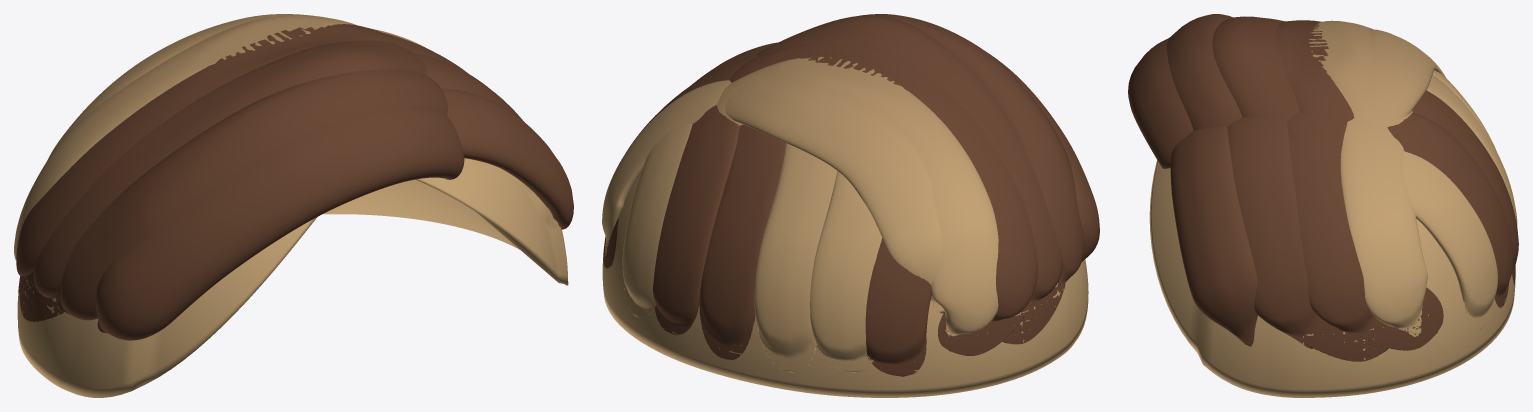
File: Highlights-988428c4273d251-hair.glb
The picture shows the model from 3 angles, left to right: view 1: azimuth 30°, elevation 25°; view 2: azimuth 150°, elevation 25°; view 3: azimuth 270°, elevation 25°; orthographic projection. The views are drawn at different scales.
Parts seen in each view (by area): view 1: 226 hair / Hair / sculpted 0.001, 226 hair / Hair / sculpted 1.001, 226 hair / Hair / sculpted 1.002, 226 hair / Hair / sculpted 2.001; view 2: 226 hair / Hair / sculpted 1.001, 226 hair / Hair / sculpted 0.001, 226 hair / Hair / sculpted 2.001, 226 hair / Hair / sculpted 1.002; view 3: 226 hair / Hair / sculpted 0.001, 226 hair / Hair / sculpted 1.001, 226 hair / Hair / sculpted 2.001, 226 hair / Hair / sculpted 1.002.
Part boxes in pixels (left/top/right/bottom): 226 hair / Hair / sculpted 0.001: left=16, top=24, right=573, bottom=340; 226 hair / Hair / sculpted 1.001: left=14, top=14, right=523, bottom=322; 226 hair / Hair / sculpted 1.002: left=17, top=158, right=568, bottom=397; 226 hair / Hair / sculpted 2.001: left=31, top=33, right=468, bottom=297; 226 hair / Hair / sculpted 1.001: left=603, top=14, right=1083, bottom=372; 226 hair / Hair / sculpted 0.001: left=602, top=41, right=1099, bottom=376; 226 hair / Hair / sculpted 2.001: left=622, top=15, right=1062, bottom=372; 226 hair / Hair / sculpted 1.002: left=602, top=174, right=1088, bottom=397; 226 hair / Hair / sculpted 0.001: left=1128, top=20, right=1518, bottom=346; 226 hair / Hair / sculpted 1.001: left=1167, top=14, right=1513, bottom=361; 226 hair / Hair / sculpted 2.001: left=1212, top=16, right=1517, bottom=344; 226 hair / Hair / sculpted 1.002: left=1149, top=160, right=1515, bottom=397.
Size of the model in its own units: 0.9759 by 0.5554 by 0.7604.
